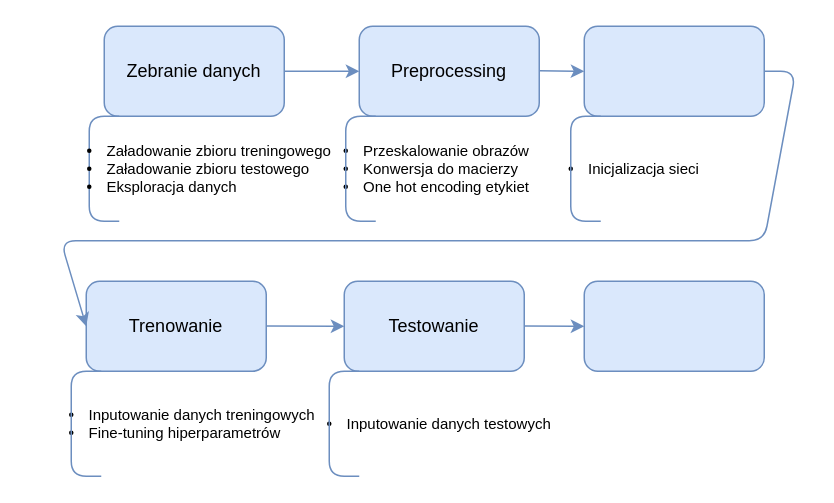
Some shapes in this 834 by 503 pixel diagram are drawn without their labels. Here are the shapes that lost their labels. From the top down, the box of each, then its label:
(583, 25, 764, 116): Budowa modelu
(583, 280, 764, 371): Wyniki klasyfikacji
